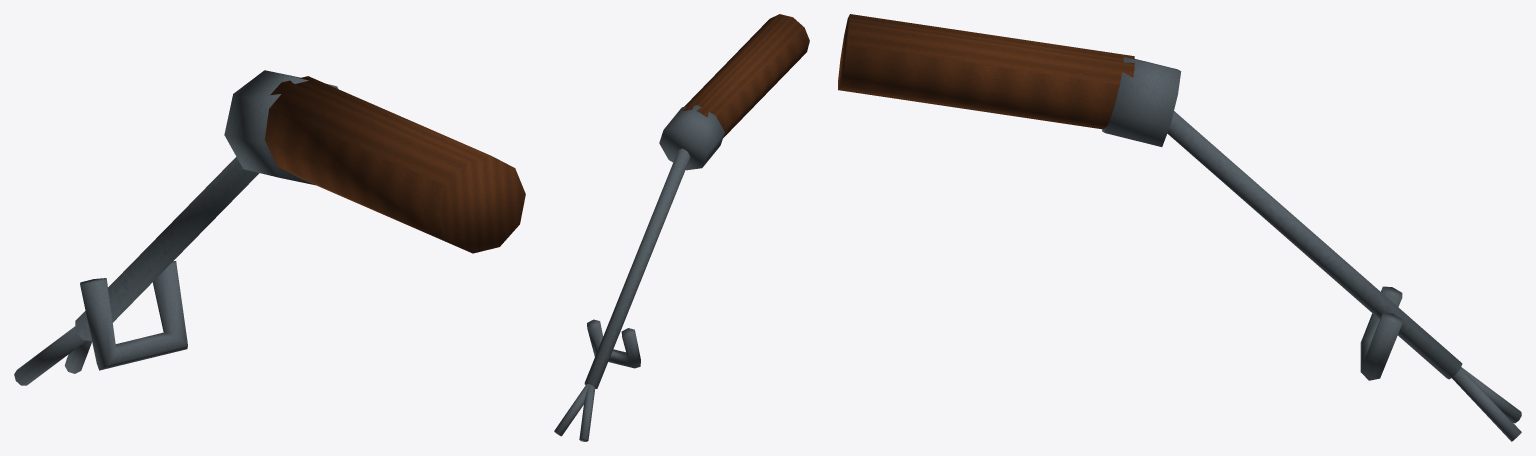
The model's file is DandelionWeeder.gltf.
The picture shows the model from 3 angles, left to right: view 1: azimuth 30°, elevation 25°; view 2: azimuth 150°, elevation 25°; view 3: azimuth 270°, elevation 25°; orthographic projection. The views are drawn at different scales.
Visible parts, largest first — view 1: DandelionWeeder__Body; view 2: DandelionWeeder__Body; view 3: DandelionWeeder__Body.
Boxes of the visible parts, x1=… form: DandelionWeeder__Body: x1=14, y1=70, x2=525, y2=385; DandelionWeeder__Body: x1=554, y1=14, x2=809, y2=441; DandelionWeeder__Body: x1=838, y1=14, x2=1521, y2=441.
Size of the model in its own units: 0.0465 by 0.2466 by 0.37.
1 material, 1 textured.
